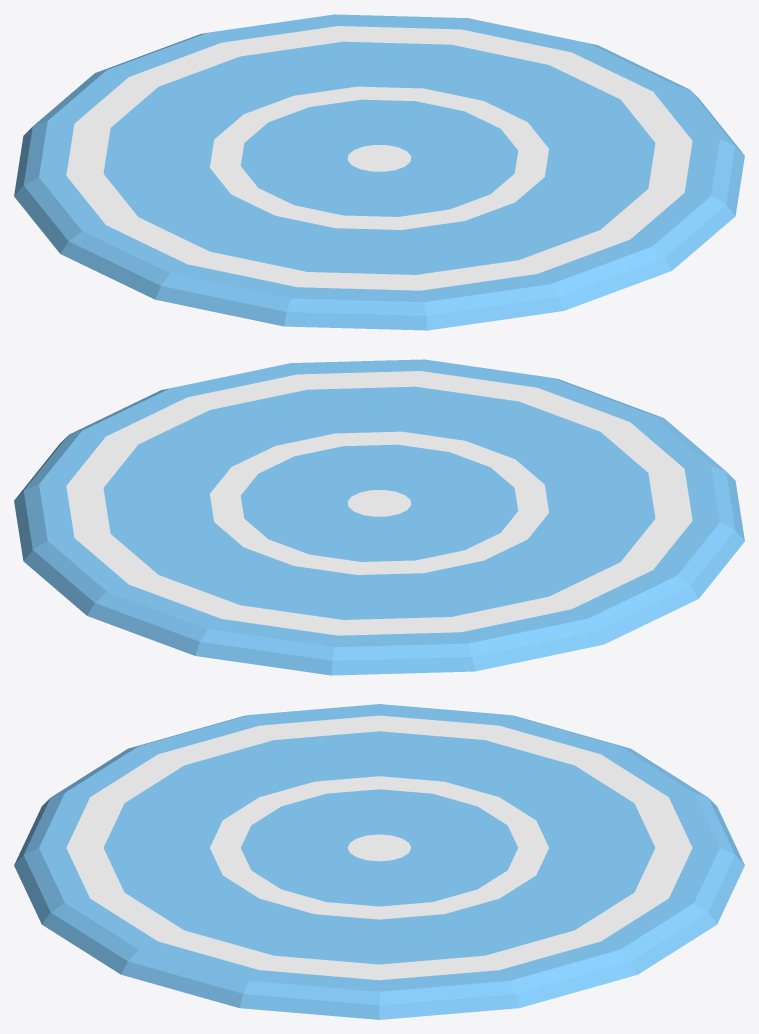
Rendered from frizbi.fbx.
3 views of the same model, one above another, from view 1: azimuth 30°, elevation 25°; view 2: azimuth 150°, elevation 25°; view 3: azimuth 270°, elevation 25° (orthographic).
Parts seen in each view (by area): view 1: Circle; view 2: Circle; view 3: Circle.
Boxes of the visible parts, left/top/right/bottom form: Circle: left=14, top=14, right=744, bottom=330; Circle: left=14, top=359, right=744, bottom=675; Circle: left=14, top=704, right=744, bottom=1019.
Bounding box in the file's own units: 209 × 5.56 × 209.
